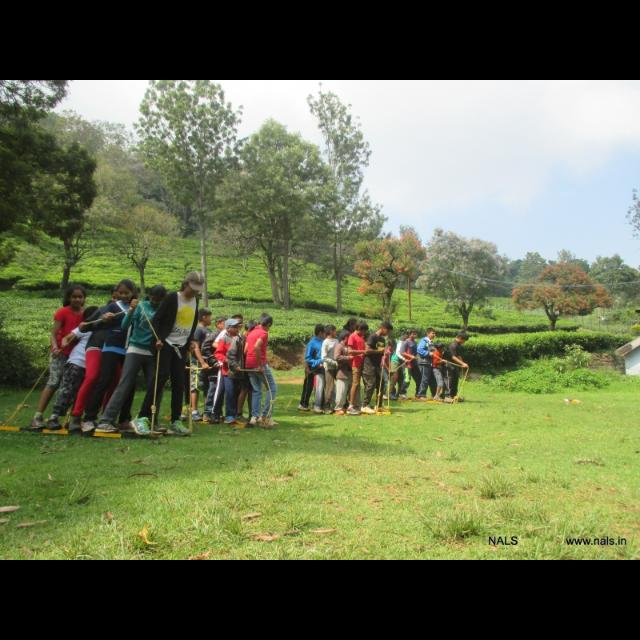head: (183, 272, 205, 300), (117, 278, 135, 304), (67, 286, 87, 308), (84, 306, 102, 326), (110, 286, 128, 306), (198, 309, 214, 327), (245, 320, 261, 338), (259, 312, 273, 330), (314, 324, 328, 340), (215, 316, 229, 332), (225, 320, 241, 334), (356, 322, 370, 336), (381, 322, 393, 338), (341, 330, 352, 346), (324, 326, 338, 338), (314, 324, 326, 338), (233, 315, 245, 329), (456, 334, 469, 346), (434, 341, 446, 354), (348, 317, 358, 331), (427, 329, 437, 341), (408, 329, 418, 341), (388, 340, 398, 352), (402, 333, 412, 343)
person: (129, 270, 207, 438), (78, 278, 144, 434), (65, 285, 127, 435), (27, 284, 89, 432), (42, 305, 110, 431), (242, 311, 282, 429), (206, 314, 246, 424), (224, 318, 262, 426), (213, 318, 247, 427), (187, 308, 217, 424), (201, 316, 233, 422), (359, 320, 393, 416), (296, 325, 332, 413), (333, 329, 363, 417), (345, 320, 371, 416), (304, 322, 330, 416), (320, 324, 344, 416), (398, 329, 428, 399), (384, 331, 414, 401), (442, 330, 470, 404), (414, 327, 440, 401), (335, 316, 359, 396), (378, 338, 400, 400), (432, 338, 450, 402)
